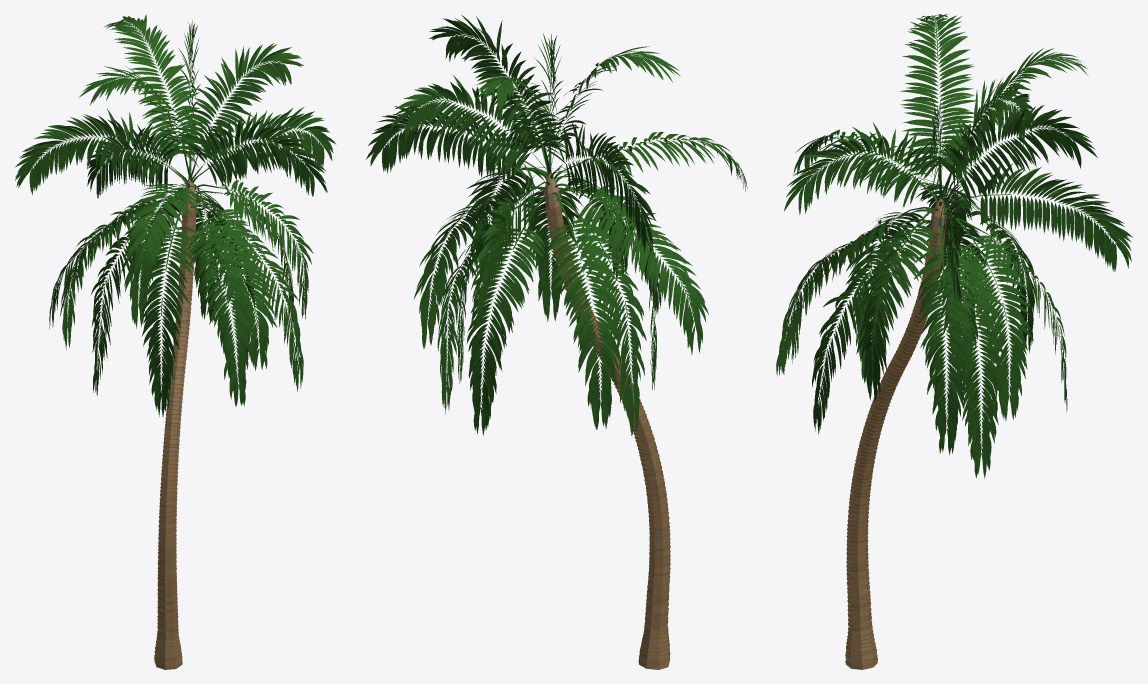
Rendered from NewPalm-3.glb.
3 renders of one model, left to right at view 1: azimuth 30°, elevation 25°; view 2: azimuth 150°, elevation 25°; view 3: azimuth 270°, elevation 25°, orthographic. The views are drawn at different scales.
Parts seen in each view (by area): view 1: cocos; view 2: cocos; view 3: cocos.
Part boxes in pixels (x1,y1,x2,y2): cocos: (15,14,336,669); cocos: (366,15,747,669); cocos: (776,14,1133,669).
Bounding box in the file's own units: 103 × 193 × 98.24.
